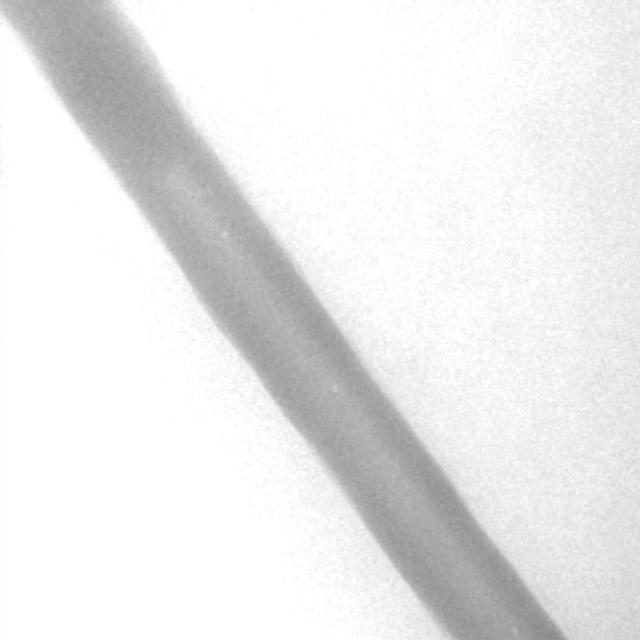air hole: (329, 380, 340, 396), (220, 227, 229, 242), (509, 624, 520, 636)
